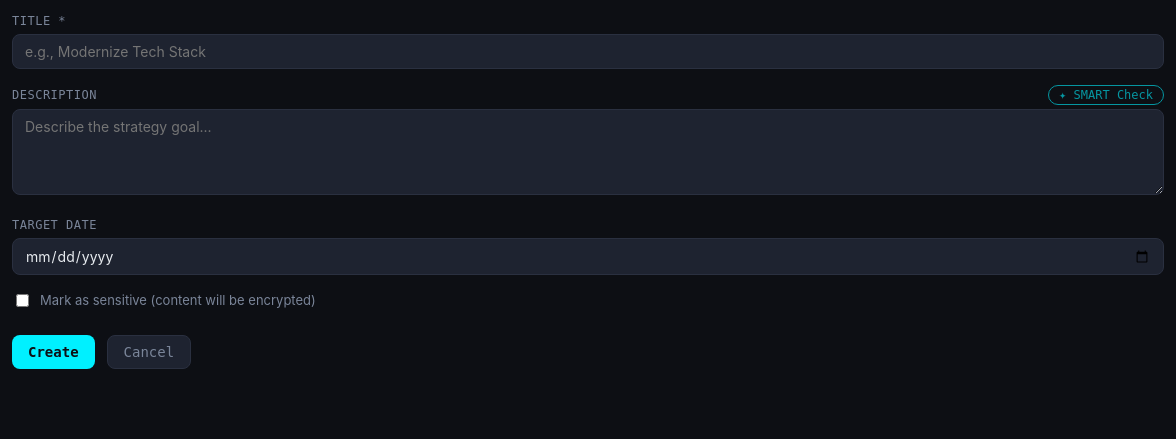
StrategyGoalForm › should show error message when AI optimization fails
In the field labelled "Title *": (588, 52) x1=12 y1=34 x2=1164 y2=69, type "Test Goal"
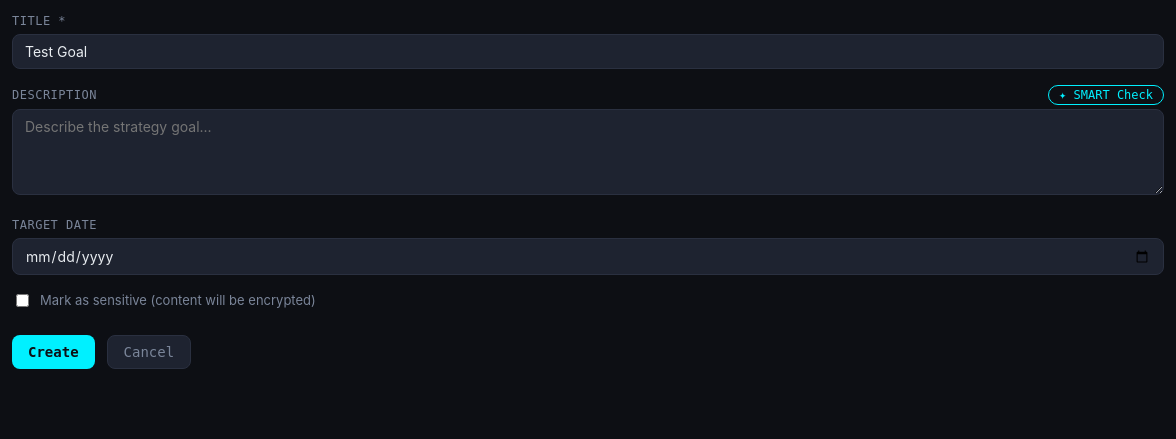
Click the button with test id "strategy-goal-smart-check-btn": (1106, 95) x1=1048 y1=85 x2=1164 y2=105
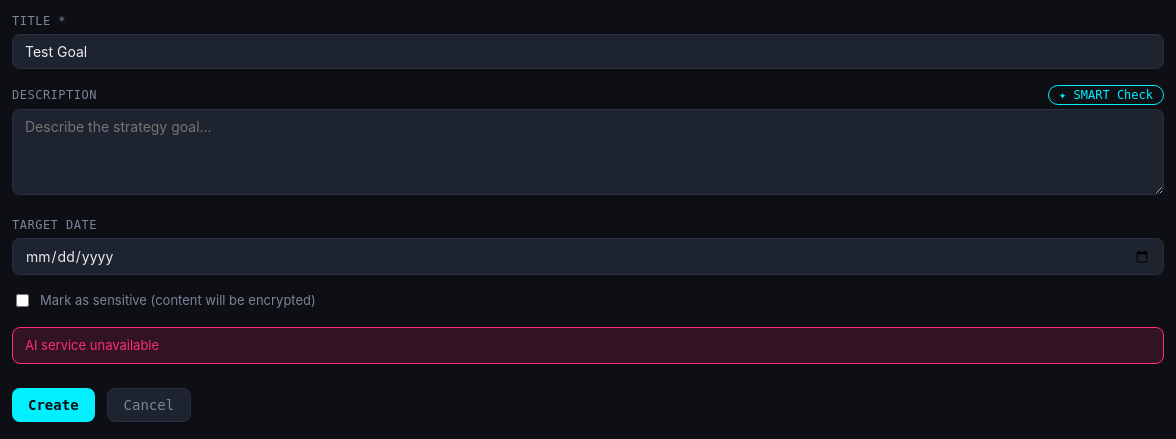
Result: the text "AI service unavailable" is shown at x1=12 y1=326 x2=1164 y2=364
Result: the text with test id "strategy-goal-ai-error" reads "AI service unavailable" at x1=25 y1=336 x2=159 y2=352
